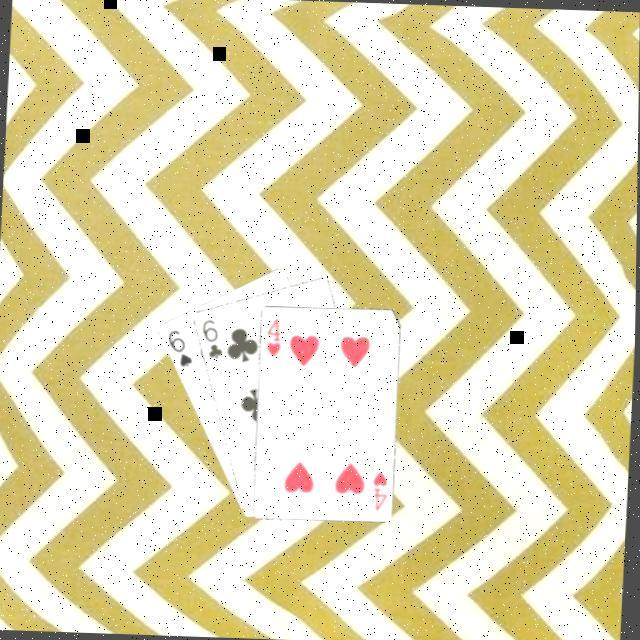4H: (261, 312, 284, 358), (367, 466, 390, 510)
6C: (196, 313, 226, 359)
6S: (161, 323, 195, 367)
